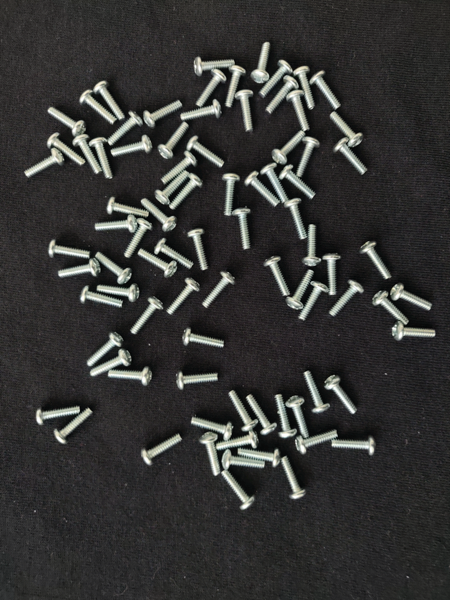shortscrew: (140, 433, 184, 466), (222, 469, 256, 511), (54, 408, 93, 444), (260, 59, 294, 99), (324, 375, 358, 415), (131, 296, 164, 337), (87, 331, 125, 366), (79, 90, 117, 125), (334, 138, 369, 176), (167, 277, 201, 316), (161, 151, 200, 185), (330, 279, 364, 318), (94, 80, 126, 121), (245, 171, 281, 207), (141, 198, 178, 233), (47, 131, 85, 165), (267, 76, 300, 115), (359, 240, 391, 280), (155, 238, 196, 269), (247, 395, 277, 437), (137, 248, 179, 278), (373, 291, 409, 326), (170, 173, 204, 210), (203, 270, 236, 308), (95, 252, 133, 285), (311, 70, 342, 110), (390, 283, 434, 311), (109, 110, 144, 145), (281, 165, 316, 200), (154, 171, 190, 205), (330, 111, 364, 147), (24, 148, 66, 177), (90, 349, 133, 377), (299, 281, 329, 321), (282, 455, 308, 501), (304, 371, 331, 414), (229, 392, 258, 432), (286, 270, 315, 310), (272, 131, 306, 165), (48, 106, 86, 136), (197, 69, 227, 107), (73, 134, 101, 174), (125, 218, 153, 258), (264, 256, 291, 297), (144, 100, 183, 128), (158, 123, 188, 159), (296, 429, 339, 454), (286, 395, 311, 438), (284, 199, 309, 241), (260, 165, 288, 202), (191, 417, 234, 441), (80, 285, 124, 308), (275, 396, 298, 439), (187, 228, 210, 271), (111, 134, 153, 157), (285, 91, 309, 131), (200, 432, 221, 477), (293, 66, 314, 111), (181, 99, 222, 122), (297, 137, 320, 178), (90, 137, 112, 179), (225, 65, 246, 108), (36, 406, 81, 426), (332, 436, 377, 456), (251, 42, 272, 84), (109, 367, 153, 387), (58, 258, 102, 278), (106, 198, 149, 218), (237, 447, 282, 466), (223, 450, 265, 470), (183, 329, 225, 349), (216, 431, 260, 450), (323, 252, 342, 296), (393, 322, 437, 341), (48, 239, 91, 258), (177, 371, 218, 390), (194, 57, 235, 76), (303, 225, 322, 266), (98, 284, 141, 302), (95, 215, 138, 233), (223, 173, 241, 216), (233, 210, 252, 250), (236, 90, 254, 132)
